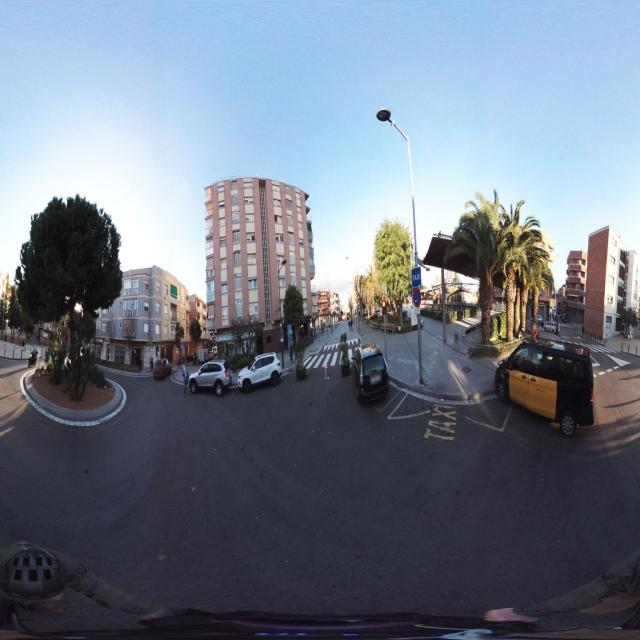forb_stopping: (413, 288, 421, 308), (279, 329, 284, 339)
